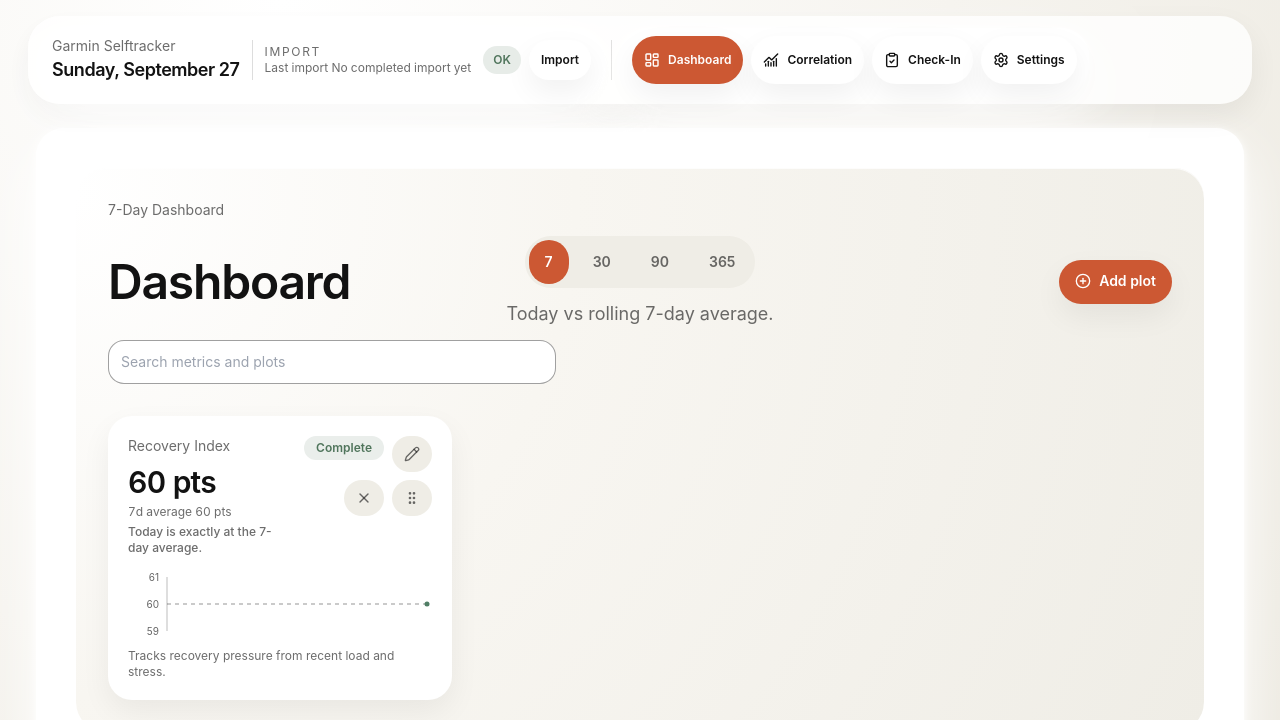
Test: App persistence workflows › offers HR-to-Speed Ratio as a lower-is-better dashboard plot
Click the button "Add plot" at [1116, 282], box [1059,260,1172,304]
(page scrolled)
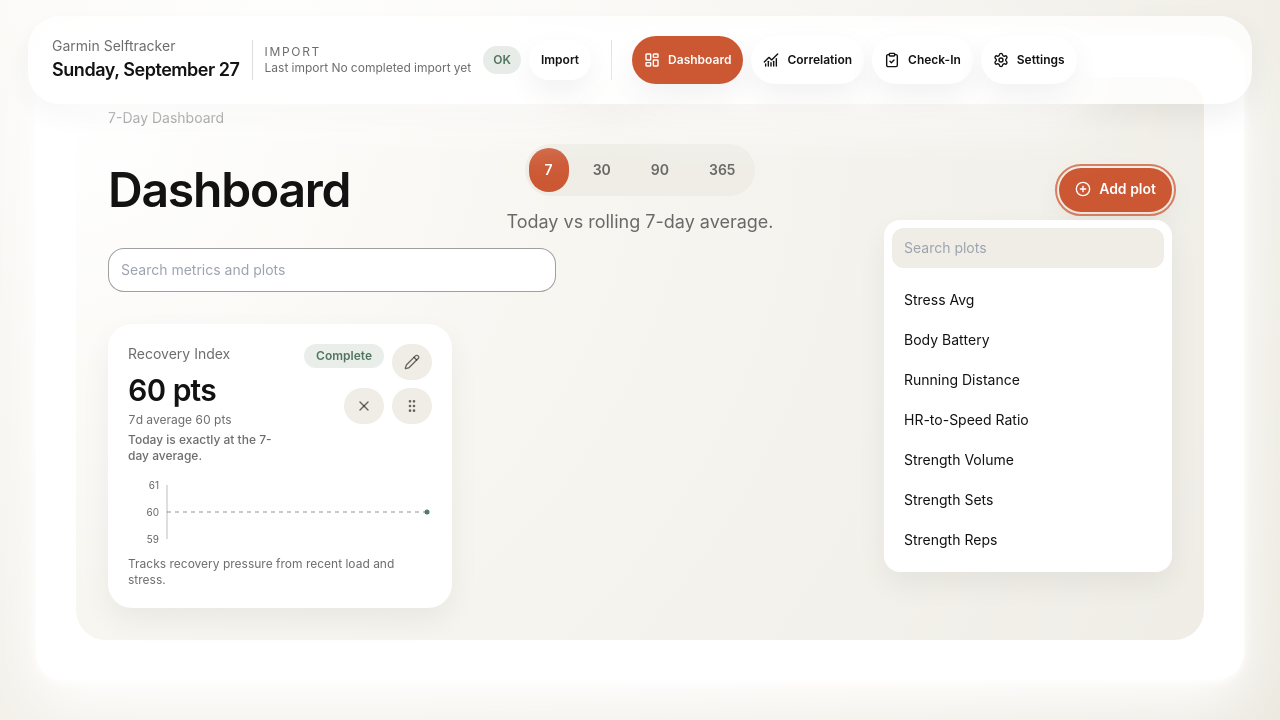
Click the button "HR-to-Speed Ratio" at [1026, 420], box [892,402,1160,438]
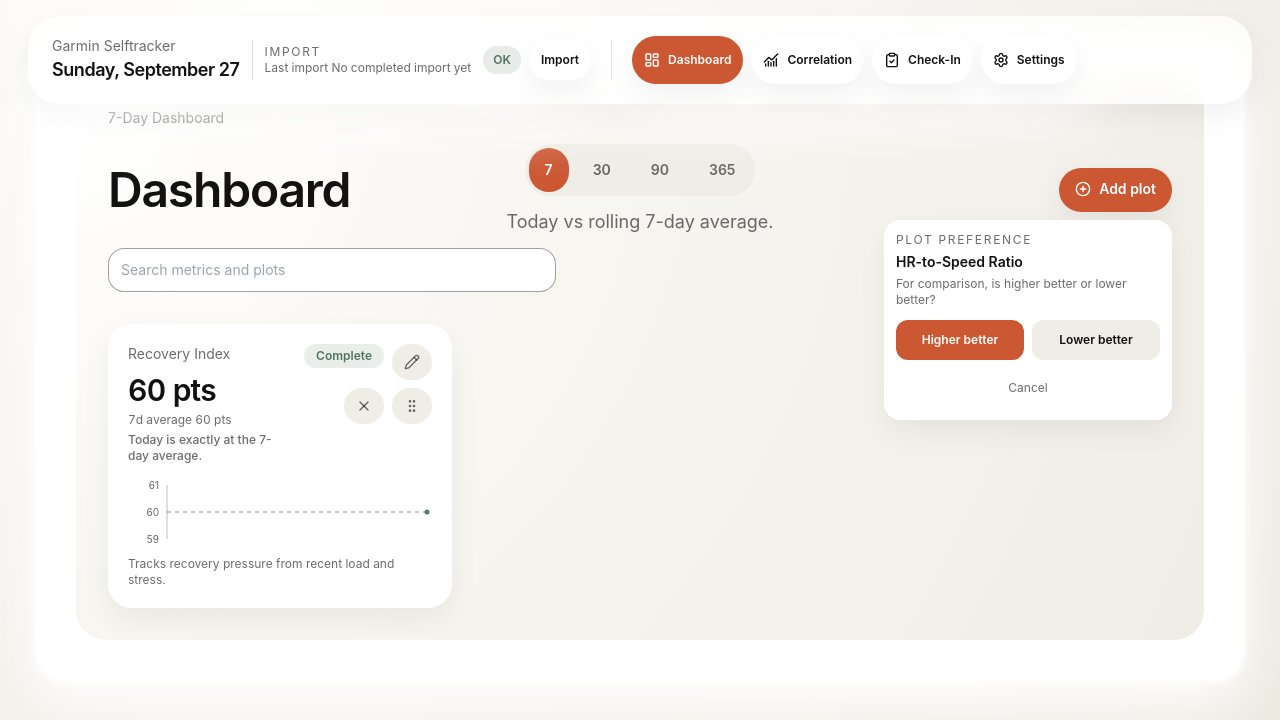
Check: the text "HR-to-Speed Ratio" is shown, box [896,253,1023,270]
Click the button "Lower better" at [1096, 340], box [1032,320,1160,360]
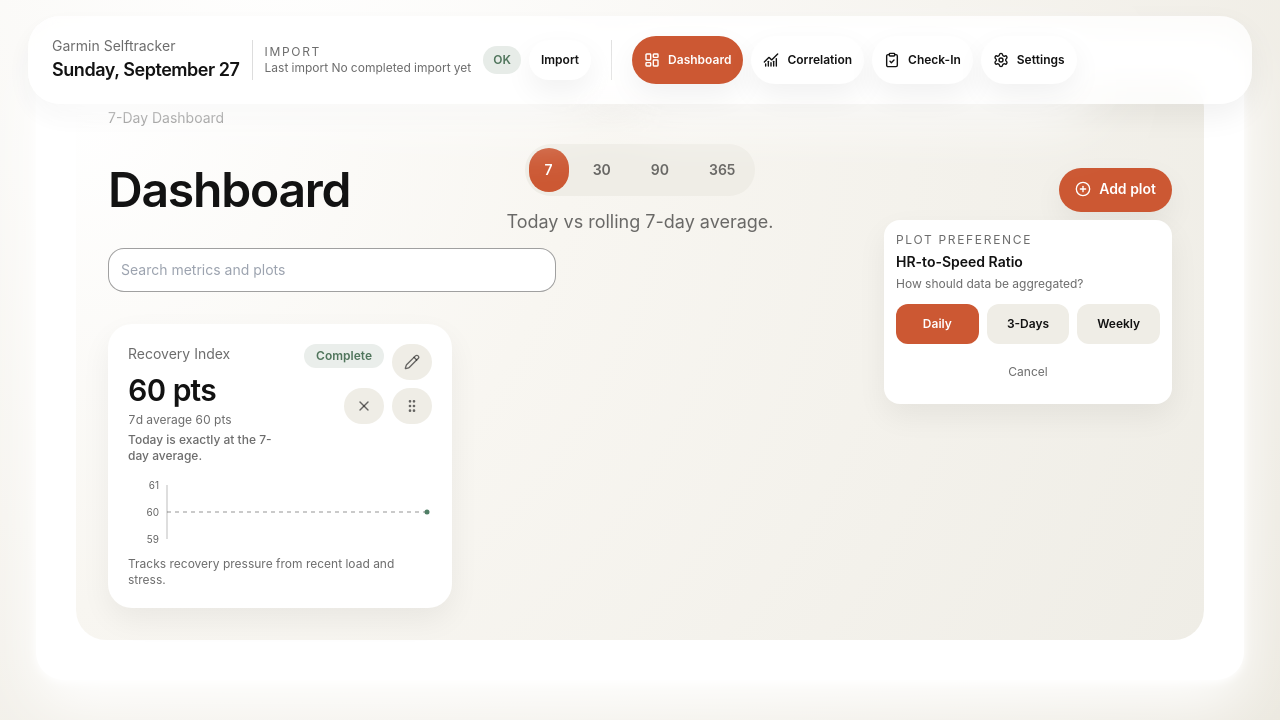
Check: the text "How should data be aggregated?" is shown, box [896,276,1084,291]
